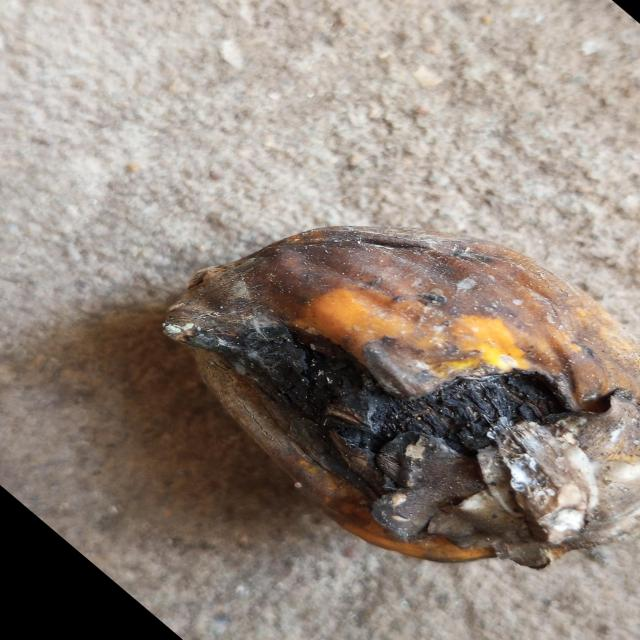damaged: (161, 227, 640, 573)
